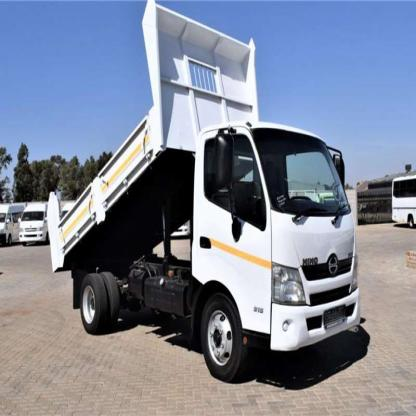dump_truck: (34, 3, 356, 379)
